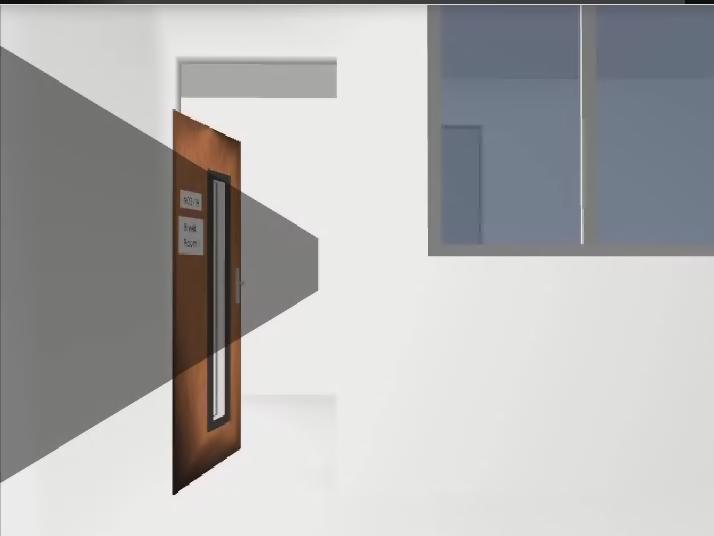door: (173, 110, 241, 495)
